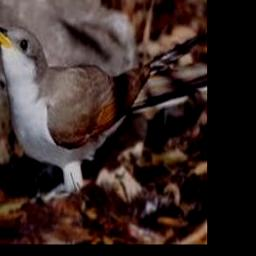Cuckoo: (0, 25, 207, 197)
